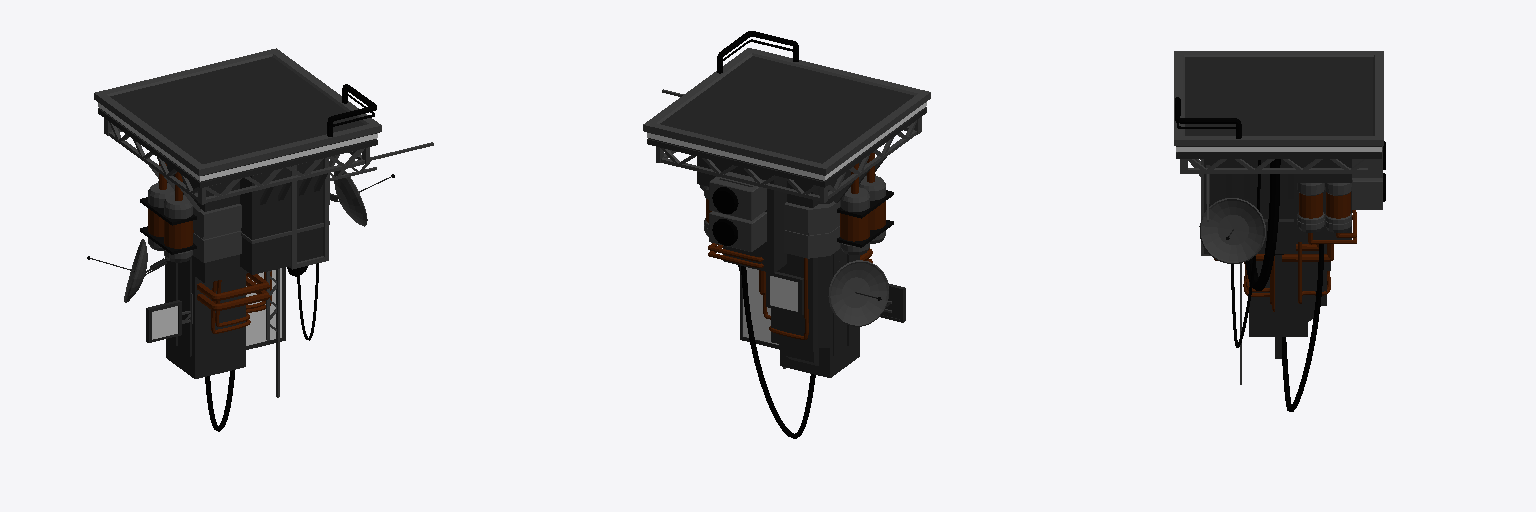
File: Platform_2x2.obj
The picture shows the model from 3 angles: view 1: azimuth 30°, elevation 25°; view 2: azimuth 150°, elevation 25°; view 3: azimuth 270°, elevation 25°; orthographic projection.
Parts seen in each view (by area): view 1: Platform_2x2; view 2: Platform_2x2; view 3: Platform_2x2.
Boxes of the visible parts, x1,y1,x2,y2 form: Platform_2x2: [87, 48, 433, 431]; Platform_2x2: [643, 31, 930, 438]; Platform_2x2: [1174, 51, 1385, 411].
Bounding box in the file's own units: 3.31 × 3.83 × 2.16.